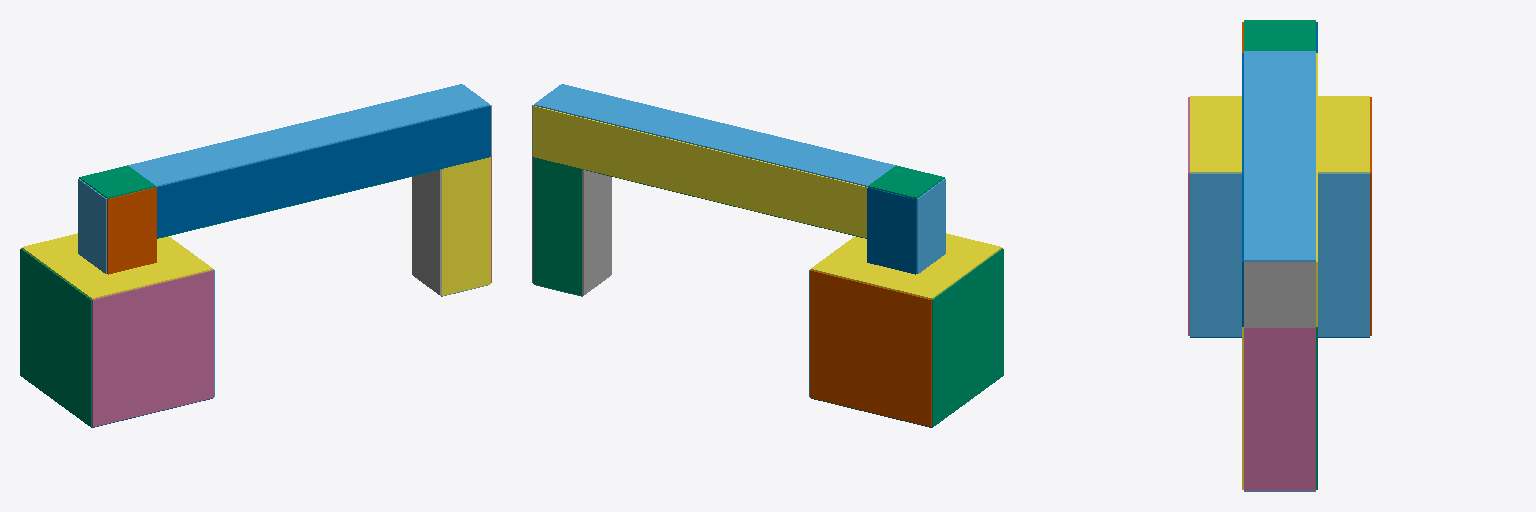
--- What the picture shows (computed from the rendered views, not written in the file) ---
The picture shows the robot from 3 angles, left to right: view 1: azimuth 30°, elevation 25°; view 2: azimuth 150°, elevation 25°; view 3: azimuth 270°, elevation 25°; orthographic projection.
Model robot with 37 links and 36 joints (1 continuous, 35 fixed), rooted at body, posed every joint at zero.
Links seen in each view (by area): view 1: arm_sensor_0_right, body_sensor_0_right, arm_sensor_0_top, body_sensor_0_stop, hand_1_sensor_0_right, body_sensor_0_top, shoulder_sensor_0_right, hand_1_sensor_0_stop, shoulder_sensor_0_stop, shoulder_sensor_0_top; view 2: arm_sensor_0_left, body_sensor_0_left, arm_sensor_0_top, body_sensor_0_stop, hand_1_sensor_0_left, body_sensor_0_top, shoulder_sensor_0_left, hand_1_sensor_0_stop, shoulder_sensor_0_stop, shoulder_sensor_0_top; view 3: body_sensor_0_start, arm_sensor_0_top, hand_1_sensor_0_start, body_sensor_0_top, arm_sensor_0_start, shoulder_sensor_0_top, arm_sensor_0_left, arm_sensor_0_right.
Link boxes in pixels (x1,y1,x2,y2): arm_sensor_0_right: (156, 106, 490, 237); body_sensor_0_right: (92, 270, 213, 426); arm_sensor_0_top: (128, 84, 489, 186); body_sensor_0_stop: (20, 248, 91, 426); hand_1_sensor_0_right: (442, 157, 490, 295); body_sensor_0_top: (22, 233, 212, 299); shoulder_sensor_0_right: (107, 187, 156, 274); hand_1_sensor_0_stop: (412, 169, 441, 295); shoulder_sensor_0_stop: (78, 179, 106, 273); shoulder_sensor_0_top: (79, 165, 155, 198); arm_sensor_0_left: (533, 106, 867, 237); body_sensor_0_left: (810, 270, 931, 426); arm_sensor_0_top: (534, 84, 895, 186); body_sensor_0_stop: (932, 248, 1003, 426); hand_1_sensor_0_left: (533, 157, 581, 295); body_sensor_0_top: (811, 233, 1001, 299); shoulder_sensor_0_left: (867, 187, 916, 274); hand_1_sensor_0_stop: (582, 169, 611, 295); shoulder_sensor_0_stop: (917, 179, 945, 273); shoulder_sensor_0_top: (868, 165, 944, 198); body_sensor_0_start: (1190, 173, 1369, 336); arm_sensor_0_top: (1244, 51, 1315, 261); hand_1_sensor_0_start: (1244, 328, 1315, 490); body_sensor_0_top: (1190, 96, 1369, 172); arm_sensor_0_start: (1244, 262, 1315, 327); shoulder_sensor_0_top: (1244, 20, 1315, 50); arm_sensor_0_left: (1316, 53, 1317, 326); arm_sensor_0_right: (1242, 53, 1243, 326).
Size in the robot's own frame: 3.47 by 1.02 by 1.62 metres.
Geometry: primitives only (box / cylinder / sphere), no mesh files.

URDF robot description (robot):
<?xml version="1.0"?>
<robot name="robot">


    <!-- body -->
    <link name="body">
        <inertial>
            <origin xyz="0 0 0" rpy="0 0 0"/>
            <mass value="100"/>
            <inertia ixx=".1" ixy=".1" ixz=".1" iyy=".1" iyz=".1" izz=".1"/>
        </inertial>
        <visual>
            <origin xyz="0 0 0" rpy="0 0 0"/>
            <geometry>
                <box size="1 1 1"/>
            </geometry>
        </visual>
        <collision>
            <origin xyz="0 0 0" rpy="0 0 0"/>
            <geometry>
                <box size="1 1 1"/>
            </geometry>
        </collision>
    </link>


    <!-- body_sensor_0_start -->
    <link name="body_sensor_0_start">
        <inertial>
            <origin xyz="0 0 0" rpy="0 0 0"/>
            <mass value="0"/>
            <inertia ixx=".1" ixy=".1" ixz=".1" iyy=".1" iyz=".1" izz=".1"/>
        </inertial>
        <visual>
            <origin xyz="0 0 0" rpy="0 0 0"/>
            <geometry>
                <box size="0.02 1 1"/>
            </geometry>
        </visual>
        <collision>
            <origin xyz="0 0 0" rpy="0 0 0"/>
            <geometry>
                <box size="0.02 1 1"/>
            </geometry>
        </collision>
    </link>
    <!-- Joint: body, body_sensor_0_start -->
    <joint name="body_body_sensor_0_start_joint" type="fixed">
        <parent link="body"/>
        <child link="body_sensor_0_start"/>
        <origin xyz="0.5 0 0"
                rpy="0 0 0"/>
        <axis xyz="0 0 1"/>
        
    </joint>


    <!-- body_sensor_0_stop -->
    <link name="body_sensor_0_stop">
        <inertial>
            <origin xyz="0 0 0" rpy="0 0 0"/>
            <mass value="0"/>
            <inertia ixx=".1" ixy=".1" ixz=".1" iyy=".1" iyz=".1" izz=".1"/>
        </inertial>
        <visual>
            <origin xyz="0 0 0" rpy="0 0 0"/>
            <geometry>
                <box size="0.02 1 1"/>
            </geometry>
        </visual>
        <collision>
            <origin xyz="0 0 0" rpy="0 0 0"/>
            <geometry>
                <box size="0.02 1 1"/>
            </geometry>
        </collision>
    </link>
    <!-- Joint: body, body_sensor_0_stop -->
    <joint name="body_body_sensor_0_stop_joint" type="fixed">
        <parent link="body"/>
        <child link="body_sensor_0_stop"/>
        <origin xyz="-0.5 0 0"
                rpy="0 0 0"/>
        <axis xyz="0 0 1"/>
        
    </joint>


    <!-- body_sensor_0_top -->
    <link name="body_sensor_0_top">
        <inertial>
            <origin xyz="0 0 0" rpy="0 0 0"/>
            <mass value="0"/>
            <inertia ixx=".1" ixy=".1" ixz=".1" iyy=".1" iyz=".1" izz=".1"/>
        </inertial>
        <visual>
            <origin xyz="0 0 0" rpy="0 0 0"/>
            <geometry>
                <box size="1.0 1 0.02"/>
            </geometry>
        </visual>
        <collision>
            <origin xyz="0 0 0" rpy="0 0 0"/>
            <geometry>
                <box size="1.0 1 0.02"/>
            </geometry>
        </collision>
    </link>
    <!-- Joint: body, body_sensor_0_top -->
    <joint name="body_body_sensor_0_top_joint" type="fixed">
        <parent link="body"/>
        <child link="body_sensor_0_top"/>
        <origin xyz="0 0 0.5"
                rpy="0 0 0"/>
        <axis xyz="0 0 1"/>
        
    </joint>


    <!-- body_sensor_0_bottom -->
    <link name="body_sensor_0_bottom">
        <inertial>
            <origin xyz="0 0 0" rpy="0 0 0"/>
            <mass value="0"/>
            <inertia ixx=".1" ixy=".1" ixz=".1" iyy=".1" iyz=".1" izz=".1"/>
        </inertial>
        <visual>
            <origin xyz="0 0 0" rpy="0 0 0"/>
            <geometry>
                <box size="1.0 1 0.02"/>
            </geometry>
        </visual>
        <collision>
            <origin xyz="0 0 0" rpy="0 0 0"/>
            <geometry>
                <box size="1.0 1 0.02"/>
            </geometry>
        </collision>
    </link>
    <!-- Joint: body, body_sensor_0_bottom -->
    <joint name="body_body_sensor_0_bottom_joint" type="fixed">
        <parent link="body"/>
        <child link="body_sensor_0_bottom"/>
        <origin xyz="0 0 -0.5"
                rpy="0 0 0"/>
        <axis xyz="0 0 1"/>
        
    </joint>


    <!-- body_sensor_0_left -->
    <link name="body_sensor_0_left">
        <inertial>
            <origin xyz="0 0 0" rpy="0 0 0"/>
            <mass value="0"/>
            <inertia ixx=".1" ixy=".1" ixz=".1" iyy=".1" iyz=".1" izz=".1"/>
        </inertial>
        <visual>
            <origin xyz="0 0 0" rpy="0 0 0"/>
            <geometry>
                <box size="1.0 0.02 1"/>
            </geometry>
        </visual>
        <collision>
            <origin xyz="0 0 0" rpy="0 0 0"/>
            <geometry>
                <box size="1.0 0.02 1"/>
            </geometry>
        </collision>
    </link>
    <!-- Joint: body, body_sensor_0_left -->
    <joint name="body_body_sensor_0_left_joint" type="fixed">
        <parent link="body"/>
        <child link="body_sensor_0_left"/>
        <origin xyz="0 0.5 0"
                rpy="0 0 0"/>
        <axis xyz="0 0 1"/>
        
    </joint>


    <!-- body_sensor_0_right -->
    <link name="body_sensor_0_right">
        <inertial>
            <origin xyz="0 0 0" rpy="0 0 0"/>
            <mass value="0"/>
            <inertia ixx=".1" ixy=".1" ixz=".1" iyy=".1" iyz=".1" izz=".1"/>
        </inertial>
        <visual>
            <origin xyz="0 0 0" rpy="0 0 0"/>
            <geometry>
                <box size="1.0 0.02 1"/>
            </geometry>
        </visual>
        <collision>
            <origin xyz="0 0 0" rpy="0 0 0"/>
            <geometry>
                <box size="1.0 0.02 1"/>
            </geometry>
        </collision>
    </link>
    <!-- Joint: body, body_sensor_0_right -->
    <joint name="body_body_sensor_0_right_joint" type="fixed">
        <parent link="body"/>
        <child link="body_sensor_0_right"/>
        <origin xyz="0 -0.5 0"
                rpy="0 0 0"/>
        <axis xyz="0 0 1"/>
        
    </joint>


    <!-- shoulder -->
    <link name="shoulder">
        <inertial>
            <origin xyz="0 0 0" rpy="0 0 0"/>
            <mass value="10"/>
            <inertia ixx=".1" ixy=".1" ixz=".1" iyy=".1" iyz=".1" izz=".1"/>
        </inertial>
        <visual>
            <origin xyz="0 0 0" rpy="0 0 0"/>
            <geometry>
                <box size="0.4 0.4 0.8"/>
            </geometry>
        </visual>
        <collision>
            <origin xyz="0 0 0" rpy="0 0 0"/>
            <geometry>
                <box size="0.4 0.4 0.8"/>
            </geometry>
        </collision>
    </link>


    <!-- shoulder_sensor_0_start -->
    <link name="shoulder_sensor_0_start">
        <inertial>
            <origin xyz="0 0 0" rpy="0 0 0"/>
            <mass value="0"/>
            <inertia ixx=".1" ixy=".1" ixz=".1" iyy=".1" iyz=".1" izz=".1"/>
        </inertial>
        <visual>
            <origin xyz="0 0 0" rpy="0 0 0"/>
            <geometry>
                <box size="0.02 0.4 0.8"/>
            </geometry>
        </visual>
        <collision>
            <origin xyz="0 0 0" rpy="0 0 0"/>
            <geometry>
                <box size="0.02 0.4 0.8"/>
            </geometry>
        </collision>
    </link>
    <!-- Joint: shoulder, shoulder_sensor_0_start -->
    <joint name="shoulder_shoulder_sensor_0_start_joint" type="fixed">
        <parent link="shoulder"/>
        <child link="shoulder_sensor_0_start"/>
        <origin xyz="0.2 0 0"
                rpy="0 0 0"/>
        <axis xyz="0 0 1"/>
        
    </joint>


    <!-- shoulder_sensor_0_stop -->
    <link name="shoulder_sensor_0_stop">
        <inertial>
            <origin xyz="0 0 0" rpy="0 0 0"/>
            <mass value="0"/>
            <inertia ixx=".1" ixy=".1" ixz=".1" iyy=".1" iyz=".1" izz=".1"/>
        </inertial>
        <visual>
            <origin xyz="0 0 0" rpy="0 0 0"/>
            <geometry>
                <box size="0.02 0.4 0.8"/>
            </geometry>
        </visual>
        <collision>
            <origin xyz="0 0 0" rpy="0 0 0"/>
            <geometry>
                <box size="0.02 0.4 0.8"/>
            </geometry>
        </collision>
    </link>
    <!-- Joint: shoulder, shoulder_sensor_0_stop -->
    <joint name="shoulder_shoulder_sensor_0_stop_joint" type="fixed">
        <parent link="shoulder"/>
        <child link="shoulder_sensor_0_stop"/>
        <origin xyz="-0.2 0 0"
                rpy="0 0 0"/>
        <axis xyz="0 0 1"/>
        
    </joint>


    <!-- shoulder_sensor_0_top -->
    <link name="shoulder_sensor_0_top">
        <inertial>
            <origin xyz="0 0 0" rpy="0 0 0"/>
            <mass value="0"/>
            <inertia ixx=".1" ixy=".1" ixz=".1" iyy=".1" iyz=".1" izz=".1"/>
        </inertial>
        <visual>
            <origin xyz="0 0 0" rpy="0 0 0"/>
            <geometry>
                <box size="0.4 0.4 0.02"/>
            </geometry>
        </visual>
        <collision>
            <origin xyz="0 0 0" rpy="0 0 0"/>
            <geometry>
                <box size="0.4 0.4 0.02"/>
            </geometry>
        </collision>
    </link>
    <!-- Joint: shoulder, shoulder_sensor_0_top -->
    <joint name="shoulder_shoulder_sensor_0_top_joint" type="fixed">
        <parent link="shoulder"/>
        <child link="shoulder_sensor_0_top"/>
        <origin xyz="0 0 0.4"
                rpy="0 0 0"/>
        <axis xyz="0 0 1"/>
        
    </joint>


    <!-- shoulder_sensor_0_bottom -->
    <link name="shoulder_sensor_0_bottom">
        <inertial>
            <origin xyz="0 0 0" rpy="0 0 0"/>
            <mass value="0"/>
            <inertia ixx=".1" ixy=".1" ixz=".1" iyy=".1" iyz=".1" izz=".1"/>
        </inertial>
        <visual>
            <origin xyz="0 0 0" rpy="0 0 0"/>
            <geometry>
                <box size="0.4 0.4 0.02"/>
            </geometry>
        </visual>
        <collision>
            <origin xyz="0 0 0" rpy="0 0 0"/>
            <geometry>
                <box size="0.4 0.4 0.02"/>
            </geometry>
        </collision>
    </link>
    <!-- Joint: shoulder, shoulder_sensor_0_bottom -->
    <joint name="shoulder_shoulder_sensor_0_bottom_joint" type="fixed">
        <parent link="shoulder"/>
        <child link="shoulder_sensor_0_bottom"/>
        <origin xyz="0 0 -0.4"
                rpy="0 0 0"/>
        <axis xyz="0 0 1"/>
        
    </joint>


    <!-- shoulder_sensor_0_left -->
    <link name="shoulder_sensor_0_left">
        <inertial>
            <origin xyz="0 0 0" rpy="0 0 0"/>
            <mass value="0"/>
            <inertia ixx=".1" ixy=".1" ixz=".1" iyy=".1" iyz=".1" izz=".1"/>
        </inertial>
        <visual>
            <origin xyz="0 0 0" rpy="0 0 0"/>
            <geometry>
                <box size="0.4 0.02 0.8"/>
            </geometry>
        </visual>
        <collision>
            <origin xyz="0 0 0" rpy="0 0 0"/>
            <geometry>
                <box size="0.4 0.02 0.8"/>
            </geometry>
        </collision>
    </link>
    <!-- Joint: shoulder, shoulder_sensor_0_left -->
    <joint name="shoulder_shoulder_sensor_0_left_joint" type="fixed">
        <parent link="shoulder"/>
        <child link="shoulder_sensor_0_left"/>
        <origin xyz="0 0.2 0"
                rpy="0 0 0"/>
        <axis xyz="0 0 1"/>
        
    </joint>


    <!-- shoulder_sensor_0_right -->
    <link name="shoulder_sensor_0_right">
        <inertial>
            <origin xyz="0 0 0" rpy="0 0 0"/>
            <mass value="0"/>
            <inertia ixx=".1" ixy=".1" ixz=".1" iyy=".1" iyz=".1" izz=".1"/>
        </inertial>
        <visual>
            <origin xyz="0 0 0" rpy="0 0 0"/>
            <geometry>
                <box size="0.4 0.02 0.8"/>
            </geometry>
        </visual>
        <collision>
            <origin xyz="0 0 0" rpy="0 0 0"/>
            <geometry>
                <box size="0.4 0.02 0.8"/>
            </geometry>
        </collision>
    </link>
    <!-- Joint: shoulder, shoulder_sensor_0_right -->
    <joint name="shoulder_shoulder_sensor_0_right_joint" type="fixed">
        <parent link="shoulder"/>
        <child link="shoulder_sensor_0_right"/>
        <origin xyz="0 -0.2 0"
                rpy="0 0 0"/>
        <axis xyz="0 0 1"/>
        
    </joint>
    <!-- Joint: body, shoulder -->
    <joint name="body_shoulder_joint" type="continuous">
        <parent link="body"/>
        <child link="shoulder"/>
        <origin xyz="0 0 0.7"
                rpy="0 0 0"/>
        <axis xyz="0 0 1"/>
        <limit lower="0" upper="0" effort="0" velocity="0"/>
    </joint>


    <!-- arm -->
    <link name="arm">
        <inertial>
            <origin xyz="0 0 0" rpy="0 0 0"/>
            <mass value="10"/>
            <inertia ixx=".1" ixy=".1" ixz=".1" iyy=".1" iyz=".1" izz=".1"/>
        </inertial>
        <visual>
            <origin xyz="0 0 0" rpy="0 0 0"/>
            <geometry>
                <box size="2.75 0.4 0.4"/>
            </geometry>
        </visual>
        <collision>
            <origin xyz="0 0 0" rpy="0 0 0"/>
            <geometry>
                <box size="2.75 0.4 0.4"/>
            </geometry>
        </collision>
    </link>


    <!-- arm_sensor_0_start -->
    <link name="arm_sensor_0_start">
        <inertial>
            <origin xyz="0 0 0" rpy="0 0 0"/>
            <mass value="0"/>
            <inertia ixx=".1" ixy=".1" ixz=".1" iyy=".1" iyz=".1" izz=".1"/>
        </inertial>
        <visual>
            <origin xyz="0 0 0" rpy="0 0 0"/>
            <geometry>
                <box size="0.02 0.4 0.4"/>
            </geometry>
        </visual>
        <collision>
            <origin xyz="0 0 0" rpy="0 0 0"/>
            <geometry>
                <box size="0.02 0.4 0.4"/>
            </geometry>
        </collision>
    </link>
    <!-- Joint: arm, arm_sensor_0_start -->
    <joint name="arm_arm_sensor_0_start_joint" type="fixed">
        <parent link="arm"/>
        <child link="arm_sensor_0_start"/>
        <origin xyz="1.375 0 0"
                rpy="0 0 0"/>
        <axis xyz="0 1 0"/>
        
    </joint>


    <!-- arm_sensor_0_stop -->
    <link name="arm_sensor_0_stop">
        <inertial>
            <origin xyz="0 0 0" rpy="0 0 0"/>
            <mass value="0"/>
            <inertia ixx=".1" ixy=".1" ixz=".1" iyy=".1" iyz=".1" izz=".1"/>
        </inertial>
        <visual>
            <origin xyz="0 0 0" rpy="0 0 0"/>
            <geometry>
                <box size="0.02 0.4 0.4"/>
            </geometry>
        </visual>
        <collision>
            <origin xyz="0 0 0" rpy="0 0 0"/>
            <geometry>
                <box size="0.02 0.4 0.4"/>
            </geometry>
        </collision>
    </link>
    <!-- Joint: arm, arm_sensor_0_stop -->
    <joint name="arm_arm_sensor_0_stop_joint" type="fixed">
        <parent link="arm"/>
        <child link="arm_sensor_0_stop"/>
        <origin xyz="-1.375 0 0"
                rpy="0 0 0"/>
        <axis xyz="0 1 0"/>
        
    </joint>


    <!-- arm_sensor_0_top -->
    <link name="arm_sensor_0_top">
        <inertial>
            <origin xyz="0 0 0" rpy="0 0 0"/>
            <mass value="0"/>
            <inertia ixx=".1" ixy=".1" ixz=".1" iyy=".1" iyz=".1" izz=".1"/>
        </inertial>
        <visual>
            <origin xyz="0 0 0" rpy="0 0 0"/>
            <geometry>
                <box size="2.75 0.4 0.02"/>
            </geometry>
        </visual>
        <collision>
            <origin xyz="0 0 0" rpy="0 0 0"/>
            <geometry>
                <box size="2.75 0.4 0.02"/>
            </geometry>
        </collision>
    </link>
    <!-- Joint: arm, arm_sensor_0_top -->
    <joint name="arm_arm_sensor_0_top_joint" type="fixed">
        <parent link="arm"/>
        <child link="arm_sensor_0_top"/>
        <origin xyz="0 0 0.2"
                rpy="0 0 0"/>
        <axis xyz="0 1 0"/>
        
    </joint>


    <!-- arm_sensor_0_bottom -->
    <link name="arm_sensor_0_bottom">
        <inertial>
            <origin xyz="0 0 0" rpy="0 0 0"/>
            <mass value="0"/>
            <inertia ixx=".1" ixy=".1" ixz=".1" iyy=".1" iyz=".1" izz=".1"/>
        </inertial>
        <visual>
            <origin xyz="0 0 0" rpy="0 0 0"/>
            <geometry>
                <box size="2.75 0.4 0.02"/>
            </geometry>
        </visual>
        <collision>
            <origin xyz="0 0 0" rpy="0 0 0"/>
            <geometry>
                <box size="2.75 0.4 0.02"/>
            </geometry>
        </collision>
    </link>
    <!-- Joint: arm, arm_sensor_0_bottom -->
    <joint name="arm_arm_sensor_0_bottom_joint" type="fixed">
        <parent link="arm"/>
        <child link="arm_sensor_0_bottom"/>
        <origin xyz="0 0 -0.2"
                rpy="0 0 0"/>
        <axis xyz="0 1 0"/>
        
    </joint>


    <!-- arm_sensor_0_left -->
    <link name="arm_sensor_0_left">
        <inertial>
            <origin xyz="0 0 0" rpy="0 0 0"/>
            <mass value="0"/>
            <inertia ixx=".1" ixy=".1" ixz=".1" iyy=".1" iyz=".1" izz=".1"/>
        </inertial>
        <visual>
            <origin xyz="0 0 0" rpy="0 0 0"/>
            <geometry>
                <box size="2.75 0.02 0.4"/>
            </geometry>
        </visual>
        <collision>
            <origin xyz="0 0 0" rpy="0 0 0"/>
            <geometry>
                <box size="2.75 0.02 0.4"/>
            </geometry>
        </collision>
    </link>
    <!-- Joint: arm, arm_sensor_0_left -->
    <joint name="arm_arm_sensor_0_left_joint" type="fixed">
        <parent link="arm"/>
        <child link="arm_sensor_0_left"/>
        <origin xyz="0 0.2 0"
                rpy="0 0 0"/>
        <axis xyz="0 1 0"/>
        
    </joint>


    <!-- arm_sensor_0_right -->
    <link name="arm_sensor_0_right">
        <inertial>
            <origin xyz="0 0 0" rpy="0 0 0"/>
            <mass value="0"/>
            <inertia ixx=".1" ixy=".1" ixz=".1" iyy=".1" iyz=".1" izz=".1"/>
        </inertial>
        <visual>
            <origin xyz="0 0 0" rpy="0 0 0"/>
            <geometry>
                <box size="2.75 0.02 0.4"/>
            </geometry>
        </visual>
        <collision>
            <origin xyz="0 0 0" rpy="0 0 0"/>
            <geometry>
                <box size="2.75 0.02 0.4"/>
            </geometry>
        </collision>
    </link>
    <!-- Joint: arm, arm_sensor_0_right -->
    <joint name="arm_arm_sensor_0_right_joint" type="fixed">
        <parent link="arm"/>
        <child link="arm_sensor_0_right"/>
        <origin xyz="0 -0.2 0"
                rpy="0 0 0"/>
        <axis xyz="0 1 0"/>
        
    </joint>
    <!-- Joint: shoulder, arm -->
    <joint name="shoulder_arm_joint" type="fixed">
        <parent link="shoulder"/>
        <child link="arm"/>
        <origin xyz="1.575 0 0.2"
                rpy="0 0 0"/>
        <axis xyz="0 1 0"/>
        
    </joint>


    <!-- hand_1 -->
    <link name="hand_1">
        <inertial>
            <origin xyz="0 0 0" rpy="0 0 0"/>
            <mass value="10"/>
            <inertia ixx=".1" ixy=".1" ixz=".1" iyy=".1" iyz=".1" izz=".1"/>
        </inertial>
        <visual>
            <origin xyz="0 0 0" rpy="0 0 0"/>
            <geometry>
                <box size="0.4 0.4 1"/>
            </geometry>
        </visual>
        <collision>
            <origin xyz="0 0 0" rpy="0 0 0"/>
            <geometry>
                <box size="0.4 0.4 1"/>
            </geometry>
        </collision>
    </link>


    <!-- hand_1_sensor_0_start -->
    <link name="hand_1_sensor_0_start">
        <inertial>
            <origin xyz="0 0 0" rpy="0 0 0"/>
            <mass value="0"/>
            <inertia ixx=".1" ixy=".1" ixz=".1" iyy=".1" iyz=".1" izz=".1"/>
        </inertial>
        <visual>
            <origin xyz="0 0 0" rpy="0 0 0"/>
            <geometry>
                <box size="0.02 0.4 1"/>
            </geometry>
        </visual>
        <collision>
            <origin xyz="0 0 0" rpy="0 0 0"/>
            <geometry>
                <box size="0.02 0.4 1"/>
            </geometry>
        </collision>
    </link>
    <!-- Joint: hand_1, hand_1_sensor_0_start -->
    <joint name="hand_1_hand_1_sensor_0_start_joint" type="fixed">
        <parent link="hand_1"/>
        <child link="hand_1_sensor_0_start"/>
        <origin xyz="0.2 0 0"
                rpy="0 0 0"/>
        <axis xyz="0 1 0"/>
        
    </joint>


    <!-- hand_1_sensor_0_stop -->
    <link name="hand_1_sensor_0_stop">
        <inertial>
            <origin xyz="0 0 0" rpy="0 0 0"/>
            <mass value="0"/>
            <inertia ixx=".1" ixy=".1" ixz=".1" iyy=".1" iyz=".1" izz=".1"/>
        </inertial>
        <visual>
            <origin xyz="0 0 0" rpy="0 0 0"/>
            <geometry>
                <box size="0.02 0.4 1"/>
            </geometry>
        </visual>
        <collision>
            <origin xyz="0 0 0" rpy="0 0 0"/>
            <geometry>
                <box size="0.02 0.4 1"/>
            </geometry>
        </collision>
    </link>
    <!-- Joint: hand_1, hand_1_sensor_0_stop -->
    <joint name="hand_1_hand_1_sensor_0_stop_joint" type="fixed">
        <parent link="hand_1"/>
        <child link="hand_1_sensor_0_stop"/>
        <origin xyz="-0.2 0 0"
                rpy="0 0 0"/>
        <axis xyz="0 1 0"/>
        
    </joint>


    <!-- hand_1_sensor_0_top -->
    <link name="hand_1_sensor_0_top">
        <inertial>
            <origin xyz="0 0 0" rpy="0 0 0"/>
            <mass value="0"/>
            <inertia ixx=".1" ixy=".1" ixz=".1" iyy=".1" iyz=".1" izz=".1"/>
        </inertial>
        <visual>
            <origin xyz="0 0 0" rpy="0 0 0"/>
            <geometry>
                <box size="0.4 0.4 0.02"/>
            </geometry>
        </visual>
        <collision>
            <origin xyz="0 0 0" rpy="0 0 0"/>
            <geometry>
                <box size="0.4 0.4 0.02"/>
            </geometry>
        </collision>
    </link>
    <!-- Joint: hand_1, hand_1_sensor_0_top -->
    <joint name="hand_1_hand_1_sensor_0_top_joint" type="fixed">
        <parent link="hand_1"/>
        <child link="hand_1_sensor_0_top"/>
        <origin xyz="0 0 0.5"
                rpy="0 0 0"/>
        <axis xyz="0 1 0"/>
        
    </joint>


    <!-- hand_1_sensor_0_bottom -->
    <link name="hand_1_sensor_0_bottom">
        <inertial>
            <origin xyz="0 0 0" rpy="0 0 0"/>
            <mass value="0"/>
            <inertia ixx=".1" ixy=".1" ixz=".1" iyy=".1" iyz=".1" izz=".1"/>
        </inertial>
        <visual>
            <origin xyz="0 0 0" rpy="0 0 0"/>
            <geometry>
                <box size="0.4 0.4 0.02"/>
            </geometry>
        </visual>
        <collision>
            <origin xyz="0 0 0" rpy="0 0 0"/>
            <geometry>
                <box size="0.4 0.4 0.02"/>
            </geometry>
        </collision>
    </link>
    <!-- Joint: hand_1, hand_1_sensor_0_bottom -->
    <joint name="hand_1_hand_1_sensor_0_bottom_joint" type="fixed">
        <parent link="hand_1"/>
        <child link="hand_1_sensor_0_bottom"/>
        <origin xyz="0 0 -0.5"
                rpy="0 0 0"/>
        <axis xyz="0 1 0"/>
        
    </joint>


    <!-- hand_1_sensor_0_left -->
    <link name="hand_1_sensor_0_left">
        <inertial>
            <origin xyz="0 0 0" rpy="0 0 0"/>
            <mass value="0"/>
            <inertia ixx=".1" ixy=".1" ixz=".1" iyy=".1" iyz=".1" izz=".1"/>
        </inertial>
        <visual>
            <origin xyz="0 0 0" rpy="0 0 0"/>
            <geometry>
                <box size="0.4 0.02 1"/>
            </geometry>
        </visual>
        <collision>
            <origin xyz="0 0 0" rpy="0 0 0"/>
            <geometry>
                <box size="0.4 0.02 1"/>
            </geometry>
        </collision>
    </link>
    <!-- Joint: hand_1, hand_1_sensor_0_left -->
    <joint name="hand_1_hand_1_sensor_0_left_joint" type="fixed">
        <parent link="hand_1"/>
        <child link="hand_1_sensor_0_left"/>
        <origin xyz="0 0.2 0"
                rpy="0 0 0"/>
        <axis xyz="0 1 0"/>
        
    </joint>


    <!-- hand_1_sensor_0_right -->
    <link name="hand_1_sensor_0_right">
        <inertial>
            <origin xyz="0 0 0" rpy="0 0 0"/>
            <mass value="0"/>
            <inertia ixx=".1" ixy=".1" ixz=".1" iyy=".1" iyz=".1" izz=".1"/>
        </inertial>
        <visual>
            <origin xyz="0 0 0" rpy="0 0 0"/>
            <geometry>
                <box size="0.4 0.02 1"/>
            </geometry>
        </visual>
        <collision>
            <origin xyz="0 0 0" rpy="0 0 0"/>
            <geometry>
                <box size="0.4 0.02 1"/>
            </geometry>
        </collision>
    </link>
    <!-- Joint: hand_1, hand_1_sensor_0_right -->
    <joint name="hand_1_hand_1_sensor_0_right_joint" type="fixed">
        <parent link="hand_1"/>
        <child link="hand_1_sensor_0_right"/>
        <origin xyz="0 -0.2 0"
                rpy="0 0 0"/>
        <axis xyz="0 1 0"/>
        
    </joint>
    <!-- Joint: arm, hand_1 -->
    <joint name="arm_hand_1_joint" type="fixed">
        <parent link="arm"/>
        <child link="hand_1"/>
        <origin xyz="1.175 0 -0.7"
                rpy="0 0 0"/>
        <axis xyz="0 1 0"/>
        
    </joint>


    <!-- body_face_0 -->
    <link name="body_face_0">
        <inertial>
            <origin xyz="0 0 0" rpy="0 0 0"/>
            <mass value="0"/>
            <inertia ixx=".1" ixy=".1" ixz=".1" iyy=".1" iyz=".1" izz=".1"/>
        </inertial>
        <visual>
            <origin xyz="0 0 0" rpy="0 0 0"/>
            <geometry>
                <box size="0.002 0.1111111111111111 0.1111111111111111"/>
            </geometry>
        </visual>
        <collision>
            <origin xyz="0 0 0" rpy="0 0 0"/>
            <geometry>
                <box size="0.002 0.1111111111111111 0.1111111111111111"/>
            </geometry>
        </collision>
    </link>
    <!-- Joint: body, body_face_0 -->
    <joint name="body_body_face_0_joint" type="fixed">
        <parent link="body"/>
        <child link="body_face_0"/>
        <origin xyz="0.501 -0.33333333333333337 0.11111111111111116"
                rpy="0 0 0"/>
        <axis xyz="0 0 1"/>
        
    </joint>


    <!-- body_face_1 -->
    <link name="body_face_1">
        <inertial>
            <origin xyz="0 0 0" rpy="0 0 0"/>
            <mass value="0"/>
            <inertia ixx=".1" ixy=".1" ixz=".1" iyy=".1" iyz=".1" izz=".1"/>
        </inertial>
        <visual>
            <origin xyz="0 0 0" rpy="0 0 0"/>
            <geometry>
                <box size="0.002 0.1111111111111111 0.1111111111111111"/>
            </geometry>
        </visual>
        <collision>
            <origin xyz="0 0 0" rpy="0 0 0"/>
            <geometry>
                <box size="0.002 0.1111111111111111 0.1111111111111111"/>
            </geometry>
        </collision>
    </link>
    <!-- Joint: body, body_face_1 -->
    <joint name="body_body_face_1_joint" type="fixed">
        <parent link="body"/>
        <child link="body_face_1"/>
        <origin xyz="0.501 -0.2222222222222222 0.2222222222222222"
                rpy="0 0 0"/>
        <axis xyz="0 0 1"/>
        
    </joint>


    <!-- body_face_2 -->
    <link name="body_face_2">
        <inertial>
            <origin xyz="0 0 0" rpy="0 0 0"/>
            <mass value="0"/>
            <inertia ixx=".1" ixy=".1" ixz=".1" iyy=".1" iyz=".1" izz=".1"/>
        </inertial>
        <visual>
            <origin xyz="0 0 0" rpy="0 0 0"/>
            <geometry>
                <box size="0.002 0.1111111111111111 0.1111111111111111"/>
            </geometry>
        </visual>
        <collision>
            <origin xyz="0 0 0" rpy="0 0 0"/>
            <geometry>
                <box size="0.002 0.1111111111111111 0.1111111111111111"/>
            </geometry>
        </collision>
    </link>
    <!-- Joint: body, body_face_2 -->
    <joint name="body_body_face_2_joint" type="fixed">
        <parent link="body"/>
        <child link="body_face_2"/>
        <origin xyz="0.501 -0.1111111111111111 0.11111111111111116"
                rpy="0 0 0"/>
        <axis xyz="0 0 1"/>
        
    </joint>


    <!-- body_face_3 -->
    <link name="body_face_3">
        <inertial>
            <origin xyz="0 0 0" rpy="0 0 0"/>
            <mass value="0"/>
            <inertia ixx=".1" ixy=".1" ixz=".1" iyy=".1" iyz=".1" izz=".1"/>
        </inertial>
        <visual>
            <origin xyz="0 0 0" rpy="0 0 0"/>
            <geometry>
                <box size="0.002 0.1111111111111111 0.1111111111111111"/>
            </geometry>
        </visual>
        <collision>
            <origin xyz="0 0 0" rpy="0 0 0"/>
            <geometry>
                <box size="0.002 0.1111111111111111 0.1111111111111111"/>
            </geometry>
        </collision>
    </link>
    <!-- Joint: body, body_face_3 -->
    <joint name="body_body_face_3_joint" type="fixed">
        <parent link="body"/>
        <child link="body_face_3"/>
        <origin xyz="0.501 -0.1111111111111111 -0.2222222222222222"
                rpy="0 0 0"/>
        <axis xyz="0 0 1"/>
        
    </joint>


    <!-- body_face_4 -->
    <link name="body_face_4">
        <inertial>
            <origin xyz="0 0 0" rpy="0 0 0"/>
            <mass value="0"/>
            <inertia ixx=".1" ixy=".1" ixz=".1" iyy=".1" iyz=".1" izz=".1"/>
        </inertial>
        <visual>
            <origin xyz="0 0 0" rpy="0 0 0"/>
            <geometry>
                <box size="0.002 0.1111111111111111 0.1111111111111111"/>
            </geometry>
        </visual>
        <collision>
            <origin xyz="0 0 0" rpy="0 0 0"/>
            <geometry>
                <box size="0.002 0.1111111111111111 0.1111111111111111"/>
            </geometry>
        </collision>
    </link>
    <!-- Joint: body, body_face_4 -->
    <joint name="body_body_face_4_joint" type="fixed">
        <parent link="body"/>
        <child link="body_face_4"/>
        <origin xyz="0.501 0.0 -0.2222222222222222"
                rpy="0 0 0"/>
        <axis xyz="0 0 1"/>
        
    </joint>


    <!-- body_face_5 -->
    <link name="body_face_5">
        <inertial>
            <origin xyz="0 0 0" rpy="0 0 0"/>
            <mass value="0"/>
            <inertia ixx=".1" ixy=".1" ixz=".1" iyy=".1" iyz=".1" izz=".1"/>
        </inertial>
        <visual>
            <origin xyz="0 0 0" rpy="0 0 0"/>
            <geometry>
                <box size="0.002 0.1111111111111111 0.1111111111111111"/>
            </geometry>
        </visual>
        <collision>
            <origin xyz="0 0 0" rpy="0 0 0"/>
            <geometry>
                <box size="0.002 0.1111111111111111 0.1111111111111111"/>
            </geometry>
        </collision>
    </link>
    <!-- Joint: body, body_face_5 -->
    <joint name="body_body_face_5_joint" type="fixed">
        <parent link="body"/>
        <child link="body_face_5"/>
        <origin xyz="0.501 0.11111111111111116 0.11111111111111116"
                rpy="0 0 0"/>
        <axis xyz="0 0 1"/>
        
    </joint>


    <!-- body_face_6 -->
    <link name="body_face_6">
        <inertial>
            <origin xyz="0 0 0" rpy="0 0 0"/>
            <mass value="0"/>
            <inertia ixx=".1" ixy=".1" ixz=".1" iyy=".1" iyz=".1" izz=".1"/>
        </inertial>
        <visual>
            <origin xyz="0 0 0" rpy="0 0 0"/>
            <geometry>
                <box size="0.002 0.1111111111111111 0.1111111111111111"/>
            </geometry>
        </visual>
        <collision>
            <origin xyz="0 0 0" rpy="0 0 0"/>
            <geometry>
                <box size="0.002 0.1111111111111111 0.1111111111111111"/>
            </geometry>
        </collision>
    </link>
    <!-- Joint: body, body_face_6 -->
    <joint name="body_body_face_6_joint" type="fixed">
        <parent link="body"/>
        <child link="body_face_6"/>
        <origin xyz="0.501 0.11111111111111116 -0.2222222222222222"
                rpy="0 0 0"/>
        <axis xyz="0 0 1"/>
        
    </joint>


    <!-- body_face_7 -->
    <link name="body_face_7">
        <inertial>
            <origin xyz="0 0 0" rpy="0 0 0"/>
            <mass value="0"/>
            <inertia ixx=".1" ixy=".1" ixz=".1" iyy=".1" iyz=".1" izz=".1"/>
        </inertial>
        <visual>
            <origin xyz="0 0 0" rpy="0 0 0"/>
            <geometry>
                <box size="0.002 0.1111111111111111 0.1111111111111111"/>
            </geometry>
        </visual>
        <collision>
            <origin xyz="0 0 0" rpy="0 0 0"/>
            <geometry>
                <box size="0.002 0.1111111111111111 0.1111111111111111"/>
            </geometry>
        </collision>
    </link>
    <!-- Joint: body, body_face_7 -->
    <joint name="body_body_face_7_joint" type="fixed">
        <parent link="body"/>
        <child link="body_face_7"/>
        <origin xyz="0.501 0.2222222222222222 0.2222222222222222"
                rpy="0 0 0"/>
        <axis xyz="0 0 1"/>
        
    </joint>


    <!-- body_face_8 -->
    <link name="body_face_8">
        <inertial>
            <origin xyz="0 0 0" rpy="0 0 0"/>
            <mass value="0"/>
            <inertia ixx=".1" ixy=".1" ixz=".1" iyy=".1" iyz=".1" izz=".1"/>
        </inertial>
        <visual>
            <origin xyz="0 0 0" rpy="0 0 0"/>
            <geometry>
                <box size="0.002 0.1111111111111111 0.1111111111111111"/>
            </geometry>
        </visual>
        <collision>
            <origin xyz="0 0 0" rpy="0 0 0"/>
            <geometry>
                <box size="0.002 0.1111111111111111 0.1111111111111111"/>
            </geometry>
        </collision>
    </link>
    <!-- Joint: body, body_face_8 -->
    <joint name="body_body_face_8_joint" type="fixed">
        <parent link="body"/>
        <child link="body_face_8"/>
        <origin xyz="0.501 0.33333333333333337 0.11111111111111116"
                rpy="0 0 0"/>
        <axis xyz="0 0 1"/>
        
    </joint>


</robot>
